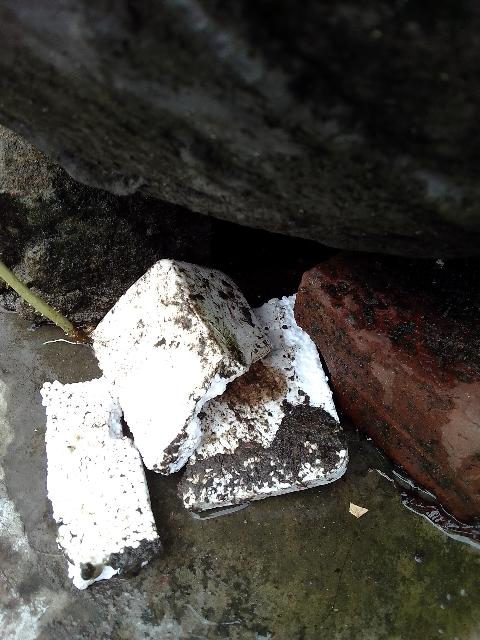cocksheet: (17, 291, 355, 568)
